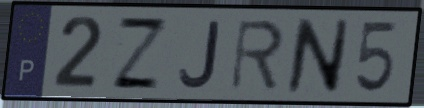2: (51, 13, 107, 92)
5: (353, 19, 399, 95)
J: (177, 18, 222, 90)
N: (283, 16, 353, 96)
R: (228, 17, 288, 93)
Z: (108, 14, 172, 92)
